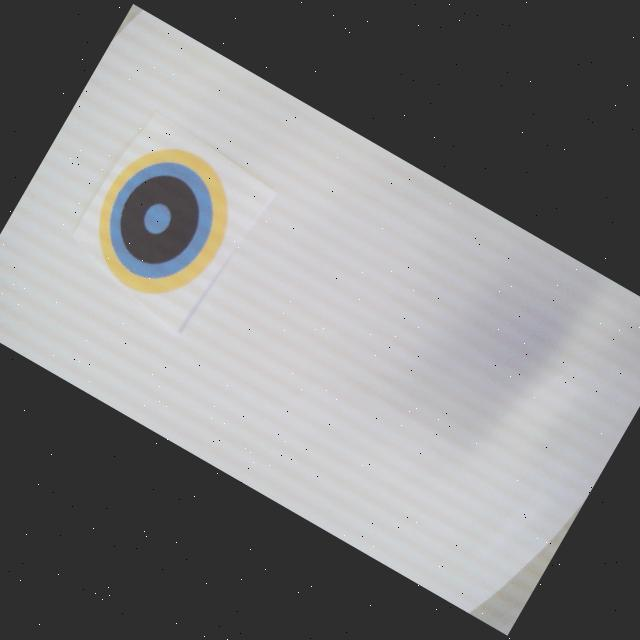COGNITIVE: (72, 125, 256, 318)
